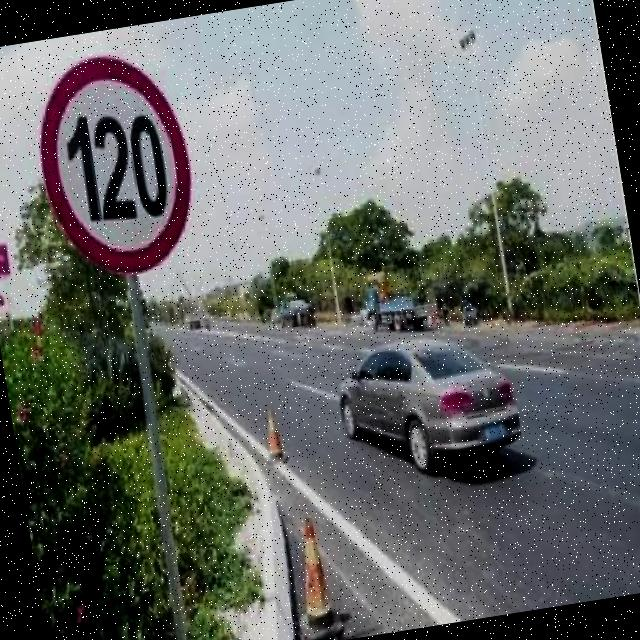Ograniczenie predkosci do 120: (31, 52, 198, 283)
